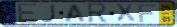A: (64, 4, 87, 23)
E: (17, 3, 39, 24)
F: (137, 4, 158, 24)
J: (40, 3, 57, 24)
R: (87, 2, 110, 24)
X: (114, 3, 137, 23)
